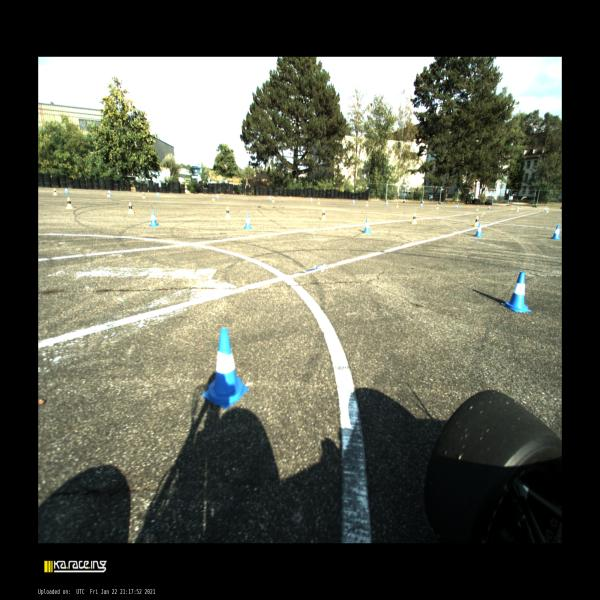blue_cone: (202, 328, 249, 408), (500, 271, 532, 313), (149, 210, 158, 226), (551, 226, 560, 240), (474, 223, 482, 238), (244, 214, 252, 228), (364, 219, 370, 233), (65, 188, 68, 193), (157, 192, 159, 197)
yellow_cone: (65, 197, 72, 209), (128, 202, 134, 213), (321, 209, 326, 219), (226, 207, 230, 218), (412, 213, 416, 224), (53, 189, 57, 195), (142, 192, 145, 198), (212, 194, 215, 200), (317, 199, 320, 204), (272, 197, 274, 202), (436, 204, 438, 209), (396, 203, 398, 207), (476, 206, 478, 210)
